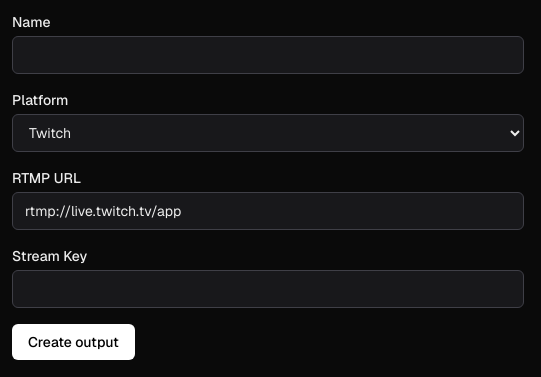
CreateOutputForm › auto-fills RTMP URL based on platform preset
Select "YouTube" in the dropdown labelled "Platform": (268, 133) [12,114,524,152]
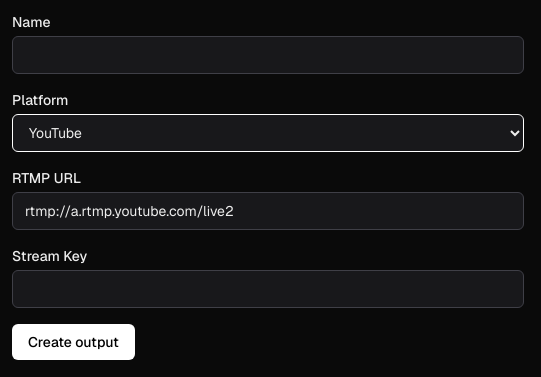
Expected: the field labelled "RTMP URL" holds "rtmp://a.rtmp.youtube.com/live2", [12,192,524,230]
